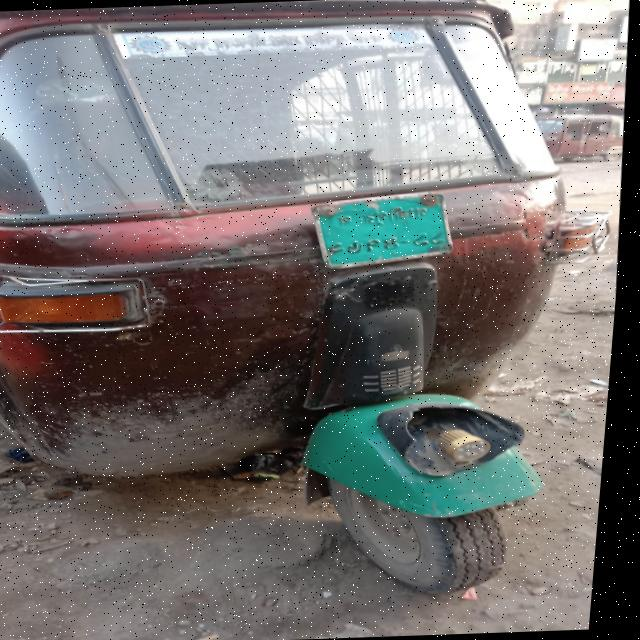cng: (0, 8, 575, 640)
